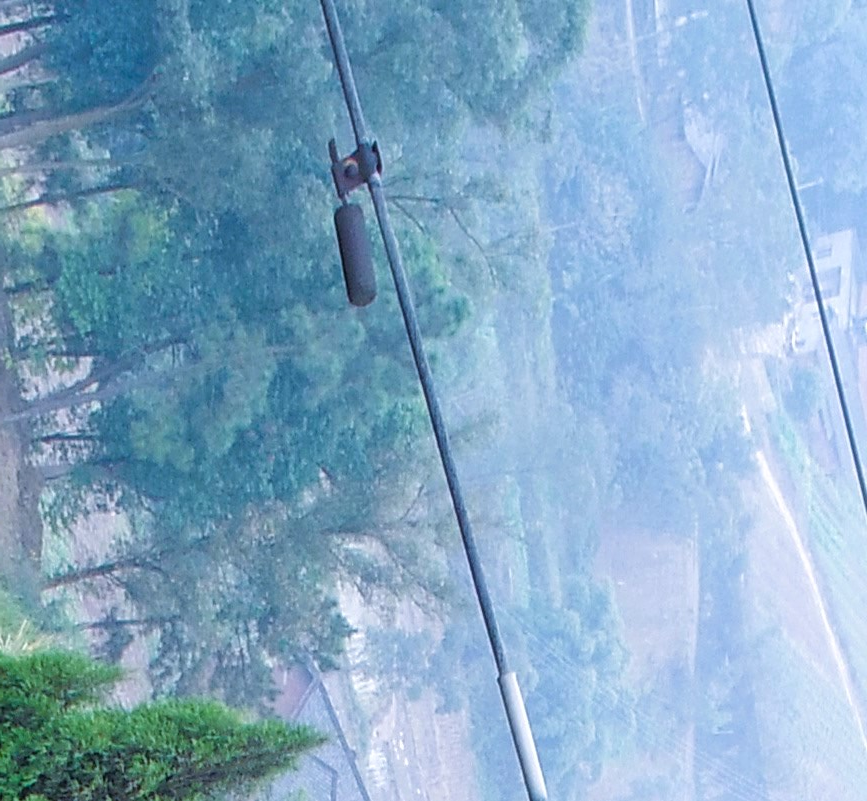Damage of shockproof hammer: (315, 119, 416, 319)
